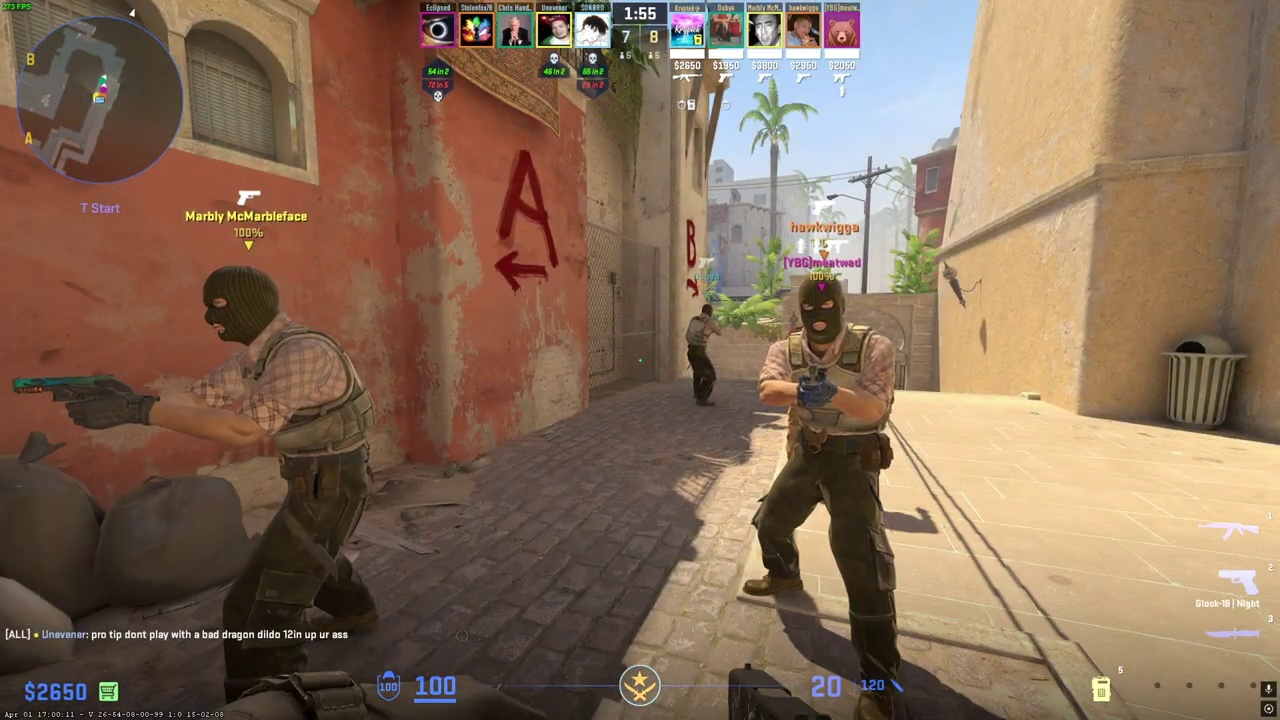Terrorist: (186, 266, 377, 694), (744, 269, 912, 716), (684, 303, 721, 407)
